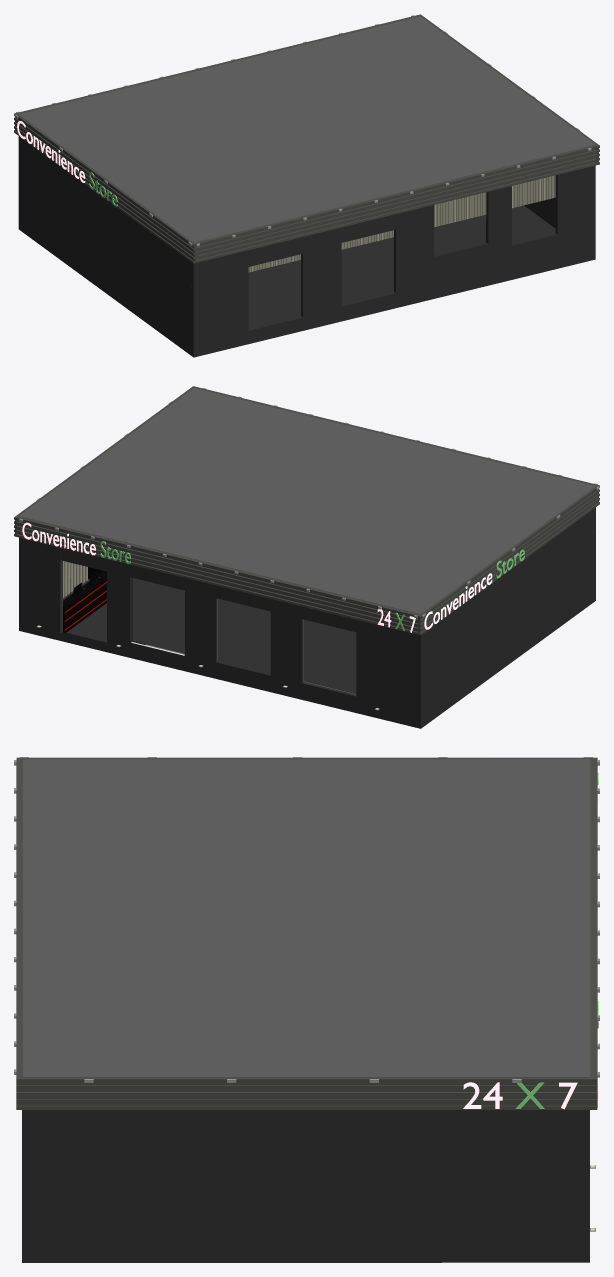
3 views of the same model, one above another, from view 1: azimuth 30°, elevation 25°; view 2: azimuth 150°, elevation 25°; view 3: azimuth 270°, elevation 25° (orthographic). The views are drawn at different scales.
Visible parts, largest first — view 1: Cube.001, Cube_045, Cube_123, Cube_136, Cube_100, Text_002, Cube_146; view 2: Cube.001, Cube_045, Cube_100, Cube_136, Cash_desk, Text_001, Cube_123, Text_002, Cube_081, Cube_146; view 3: Cube.001, Cube_045, Cube_146, Cube_100, Cube_123, Cube_136, Text_003.
Part boxes in pixels (box(x1,y1,x2,y2)): Cube.001: box(18, 16, 594, 242); Cube_045: box(18, 136, 595, 357); Cube_123: box(194, 144, 597, 262); Cube_136: box(14, 113, 195, 263); Cube_100: box(16, 15, 419, 114); Text_002: box(17, 121, 117, 206); Cube_146: box(418, 14, 599, 164); Cube.001: box(19, 388, 595, 614); Cube_045: box(19, 507, 595, 728); Cube_100: box(16, 516, 419, 634); Cube_136: box(418, 485, 599, 635); Cash_desk: box(63, 567, 106, 632); Text_001: box(22, 522, 415, 632); Cube_123: box(194, 386, 596, 485); Text_002: box(424, 549, 524, 629); Cube_081: box(63, 561, 87, 597); Cube_146: box(14, 386, 194, 536); Cube.001: box(23, 759, 590, 1077); Cube_045: box(22, 1110, 589, 1262); Cube_146: box(16, 1077, 597, 1109); Cube_100: box(590, 759, 597, 1107); Cube_123: box(16, 759, 22, 1077); Cube_136: box(16, 757, 597, 759); Text_003: box(463, 1082, 577, 1109).
Size of the model in its own units: 1288 by 346 by 988.
